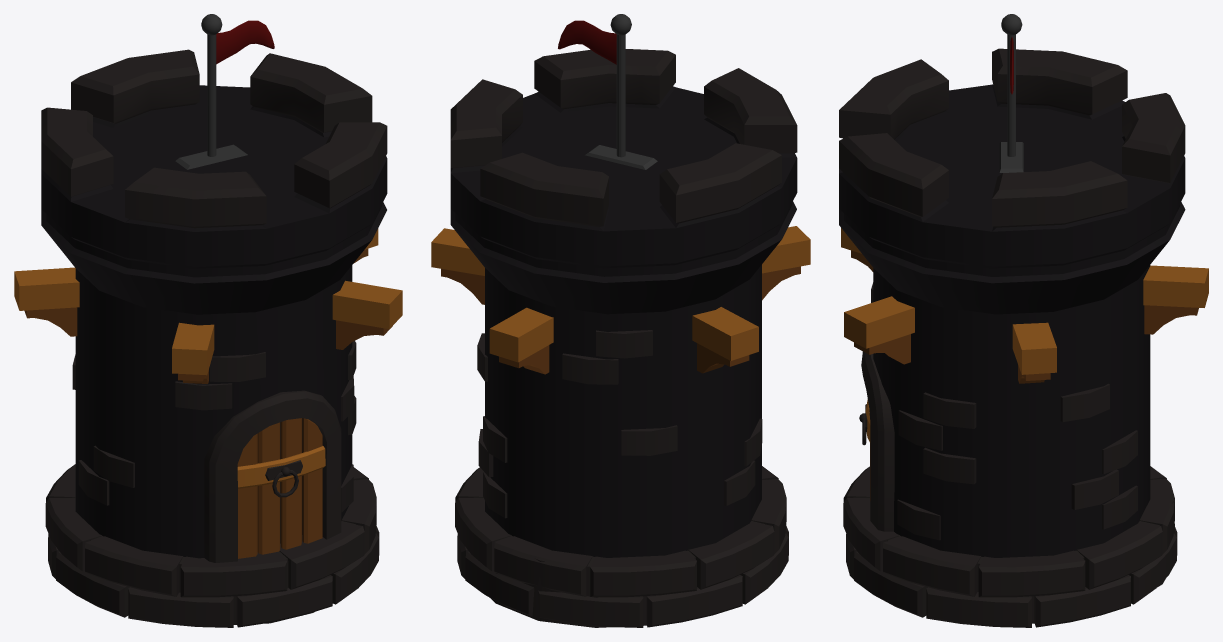
Rendered from relay-tower.glb.
3 views of the same model, side by side, from view 1: azimuth 30°, elevation 25°; view 2: azimuth 150°, elevation 25°; view 3: azimuth 270°, elevation 25° (orthographic).
Parts seen in each view (by area): view 1: relay-tower; view 2: relay-tower; view 3: relay-tower.
Boxes of the visible parts, <box> form: relay-tower: <box>14,14,402,627</box>; relay-tower: <box>431,14,810,627</box>; relay-tower: <box>839,14,1208,627</box>.
Size of the model in its own units: 9.44 by 14.6 by 8.98.
Materials: 1 (1 with a texture image).
